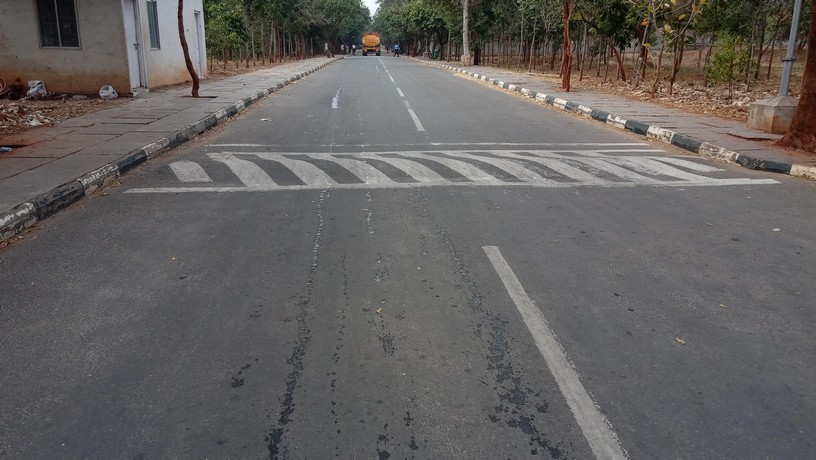bump: (129, 142, 785, 191)
